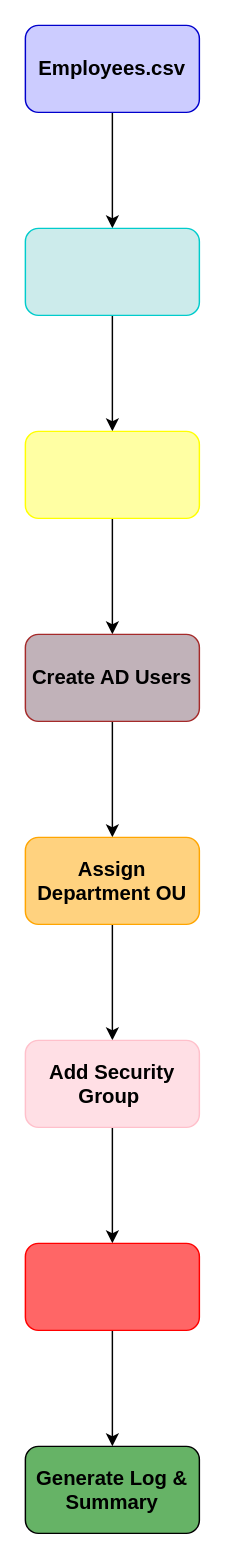
Image size: 225x1559. Some labels were removed from this diagram. The centre of each missing label's shape, as x and y in pixels:
500+ Employee Records: the point at 111,474
Create Home Folder: the point at 111,1286
Import-csv: the point at 111,271
